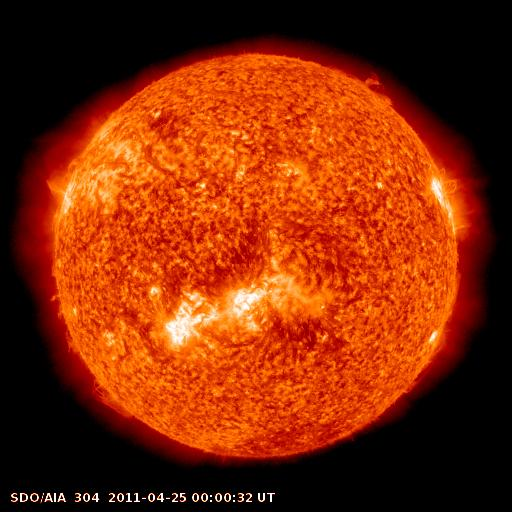prominence: (42, 290, 85, 358), (350, 65, 396, 116), (87, 376, 135, 423)
